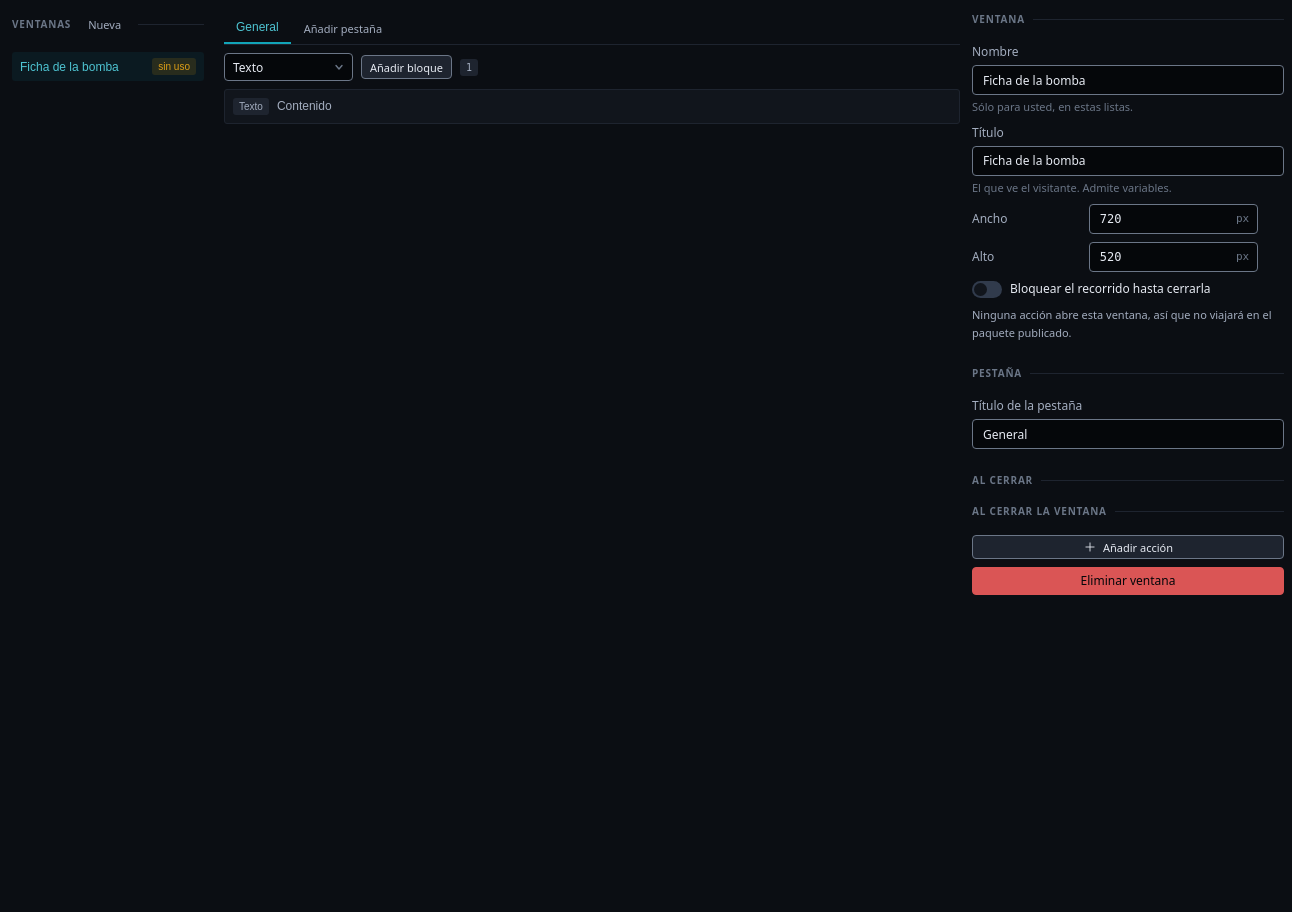
Test: InfoWindowsModule › TEST-IWM-011 no se puede quedar sin pestañas
Check: the button "Eliminar pestaña" is not shown
Click the button "Añadir pestaña": (343, 28) [295,16,391,40]
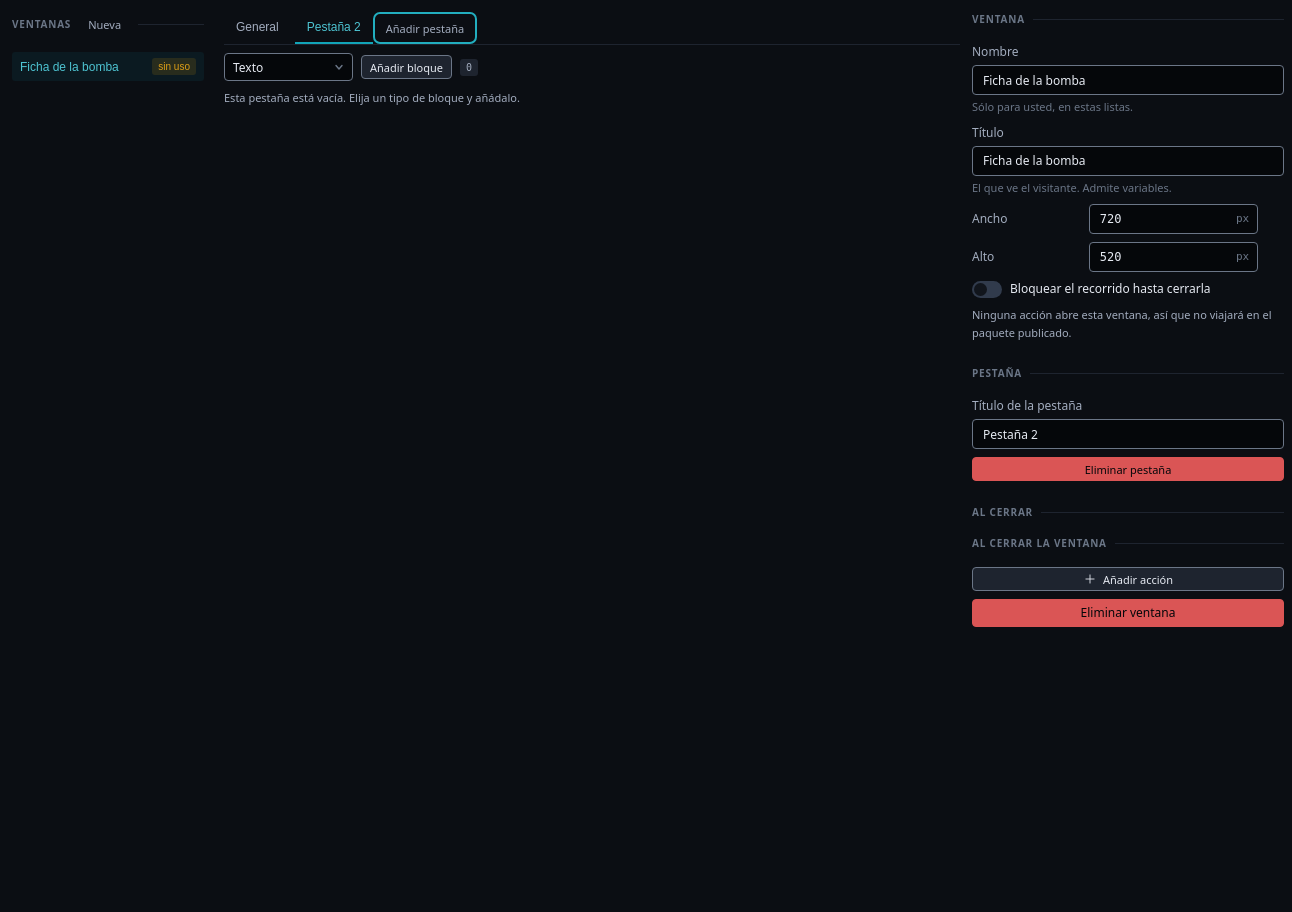
Check: the button "Eliminar pestaña" is shown, box [972,457,1284,481]
